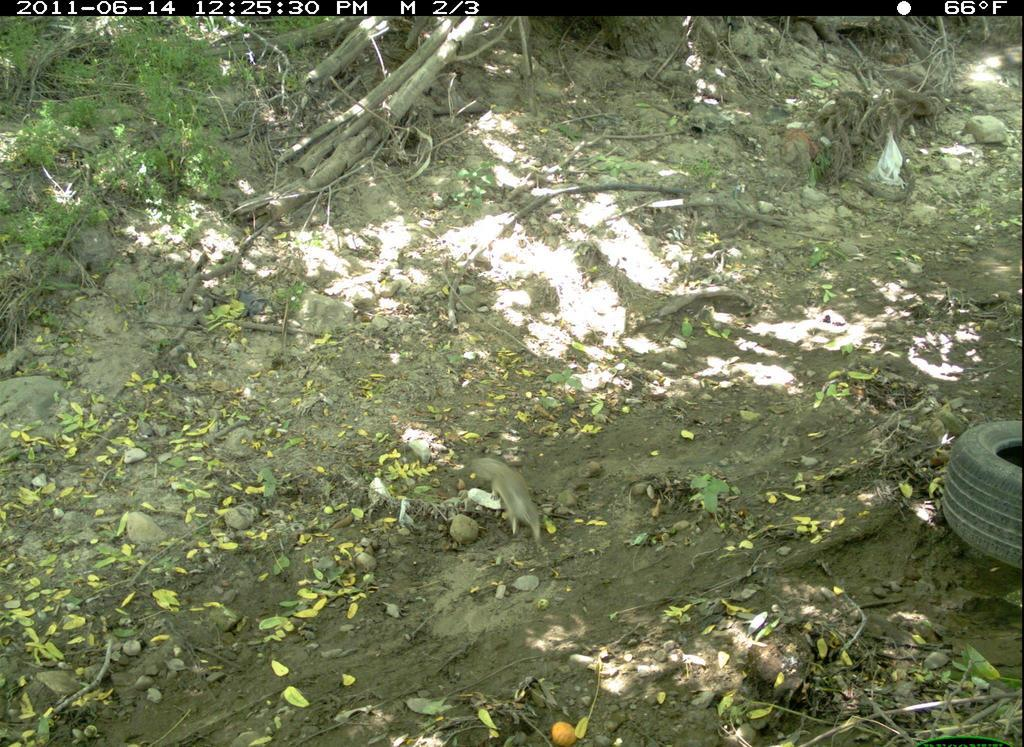squirrel: (468, 451, 553, 551)
